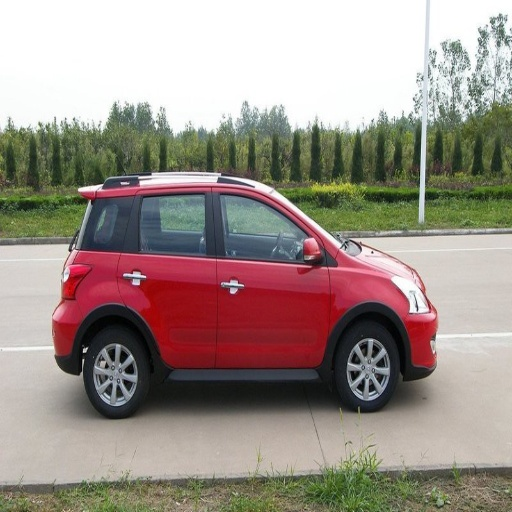back_right_door: (109, 185, 215, 366)
front_right_door: (215, 184, 330, 366)
